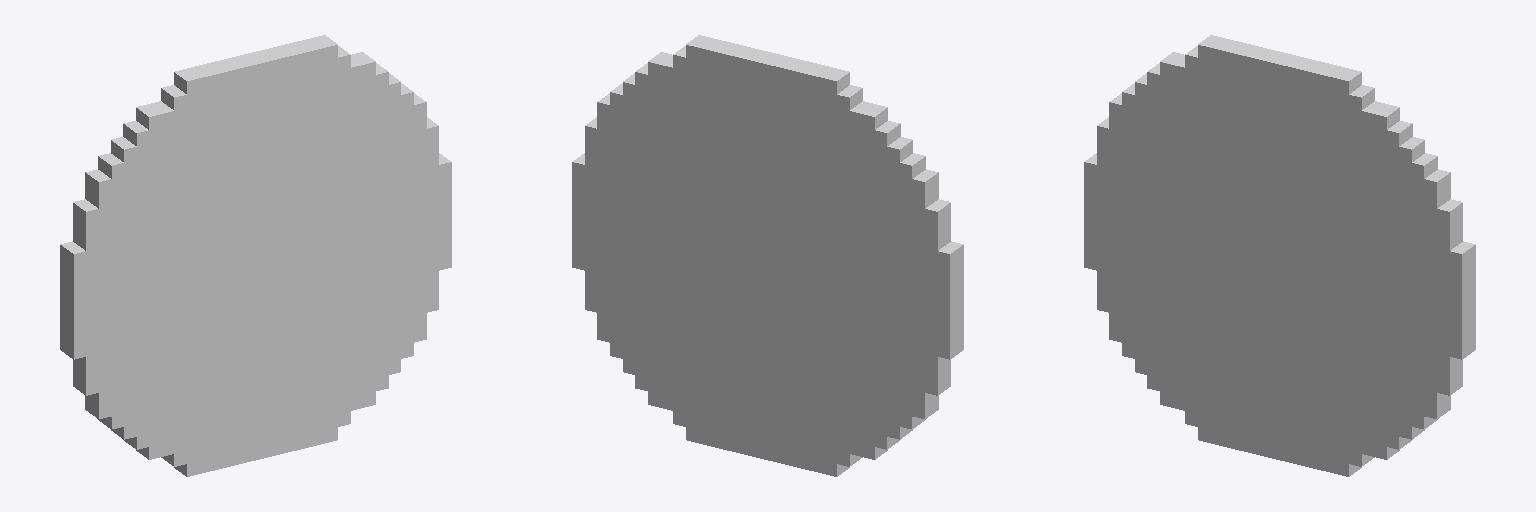
Rendered from legendportal.obj.
3 views of the same model, side by side, from view 1: azimuth 30°, elevation 25°; view 2: azimuth 150°, elevation 25°; view 3: azimuth 330°, elevation 25° (orthographic).
Parts seen in each view (by area): view 1: portal; view 2: portal; view 3: portal.
Part boxes in pixels (bbox=[...]): portal: bbox=[60, 35, 451, 476]; portal: bbox=[572, 35, 963, 476]; portal: bbox=[1084, 35, 1475, 476].
Size of the model in its own units: 3 by 3 by 0.1835.